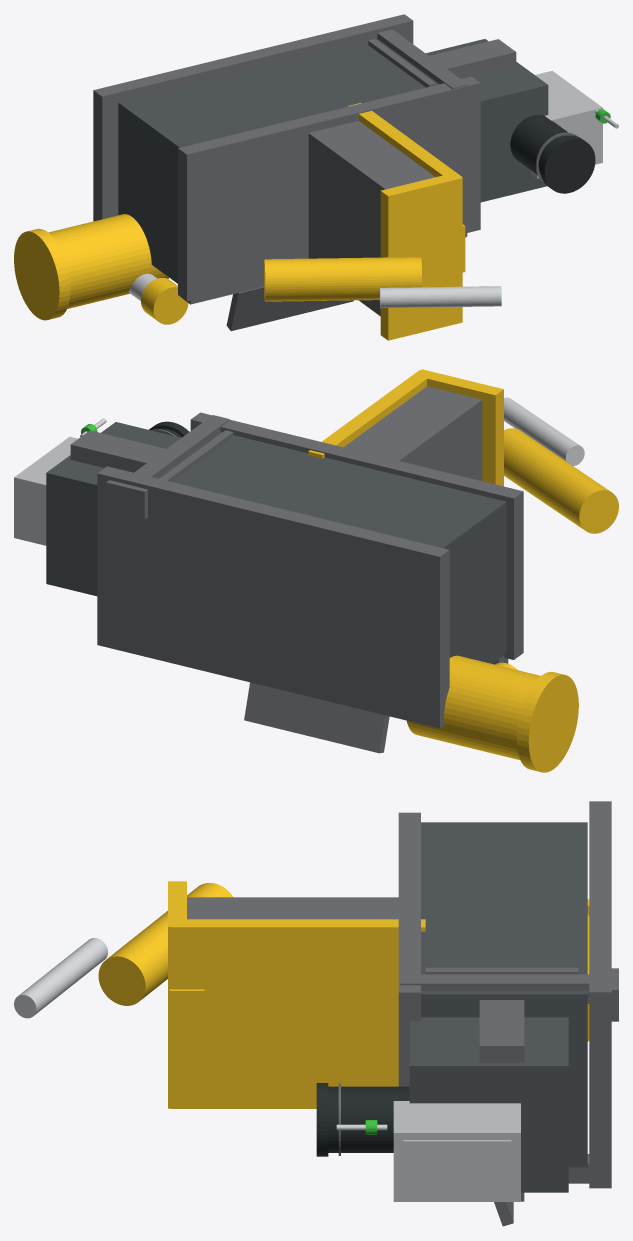
File: scrap_baling_press.glb
3 renders of one model, top to bottom at view 1: azimuth 30°, elevation 25°; view 2: azimuth 150°, elevation 25°; view 3: azimuth 270°, elevation 25°, orthographic. The views are drawn at different scales.
Visible parts, largest first — view 1: Top structural rail, Main compression chamber, Vertical compression door, Door top beam, Bottom base, Power pack frame, Front ejector hydraulic barrel, Upper hydraulic barrel, Ejector end cap, Electrical control cabinet, Upper piston rod, Motor top (+7 smaller); view 2: Bottom base, Main compression chamber, Vertical compression door, Power pack frame, Top structural rail, Front ejector hydraulic barrel, Upper hydraulic barrel, Feed hopper, Ejector end cap, Electrical control cabinet, Door top beam, Oil reservoir (+5 smaller); view 3: Door yellow side frame, Main compression chamber, Power pack frame, Bottom base, Electrical control cabinet, Cabinet door, Top structural rail, Vertical compression door, Upper hydraulic barrel, Electric motor, Rear support, Oil reservoir (+5 smaller).
Boxes of the visible parts, box(x1,y1,x2,y2) form: Top structural rail: box(178, 76, 480, 301); Main compression chamber: box(118, 39, 438, 283); Vertical compression door: box(308, 121, 435, 316); Door top beam: box(380, 174, 462, 340); Bottom base: box(93, 14, 413, 221); Power pack frame: box(426, 39, 548, 202); Front ejector hydraulic barrel: box(48, 214, 168, 308); Upper hydraulic barrel: box(264, 257, 422, 301); Ejector end cap: box(14, 228, 70, 320); Electrical control cabinet: box(531, 70, 602, 178); Upper piston rod: box(379, 286, 501, 308); Motor top: box(540, 135, 595, 193); Bottom base: box(97, 466, 449, 728); Main compression chamber: box(157, 432, 506, 663); Vertical compression door: box(344, 386, 482, 480); Power pack frame: box(46, 422, 180, 596); Top structural rail: box(190, 412, 523, 659); Front ejector hydraulic barrel: box(407, 655, 540, 759); Upper hydraulic barrel: box(504, 428, 618, 533); Feed hopper: box(244, 682, 389, 753); Ejector end cap: box(516, 671, 578, 772); Electrical control cabinet: box(14, 436, 77, 545); Door top beam: box(421, 369, 503, 486); Oil reservoir: box(70, 430, 165, 472); Door yellow side frame: box(171, 919, 425, 1108); Main compression chamber: box(421, 822, 587, 1167); Power pack frame: box(409, 1017, 568, 1192); Bottom base: box(589, 801, 611, 1188); Electrical control cabinet: box(393, 1101, 520, 1201); Cabinet door: box(403, 1140, 511, 1195); Top structural rail: box(398, 812, 420, 1086); Vertical compression door: box(187, 897, 398, 919); Upper hydraulic barrel: box(98, 883, 232, 1005); Electric motor: box(328, 1086, 409, 1152); Rear support: box(400, 974, 589, 1003); Oil reservoir: box(479, 1000, 524, 1062).
Size of the model in its own units: 11.51 by 5.07 by 9.51.
